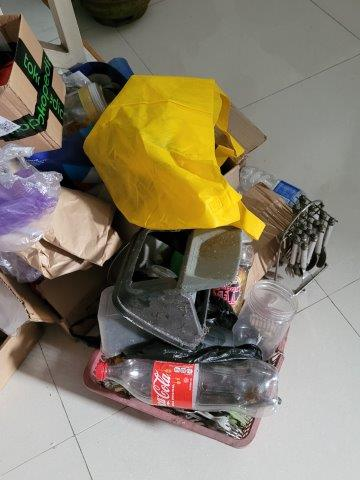botolplastik: (94, 357, 282, 409)
plastik: (1, 146, 63, 253)
